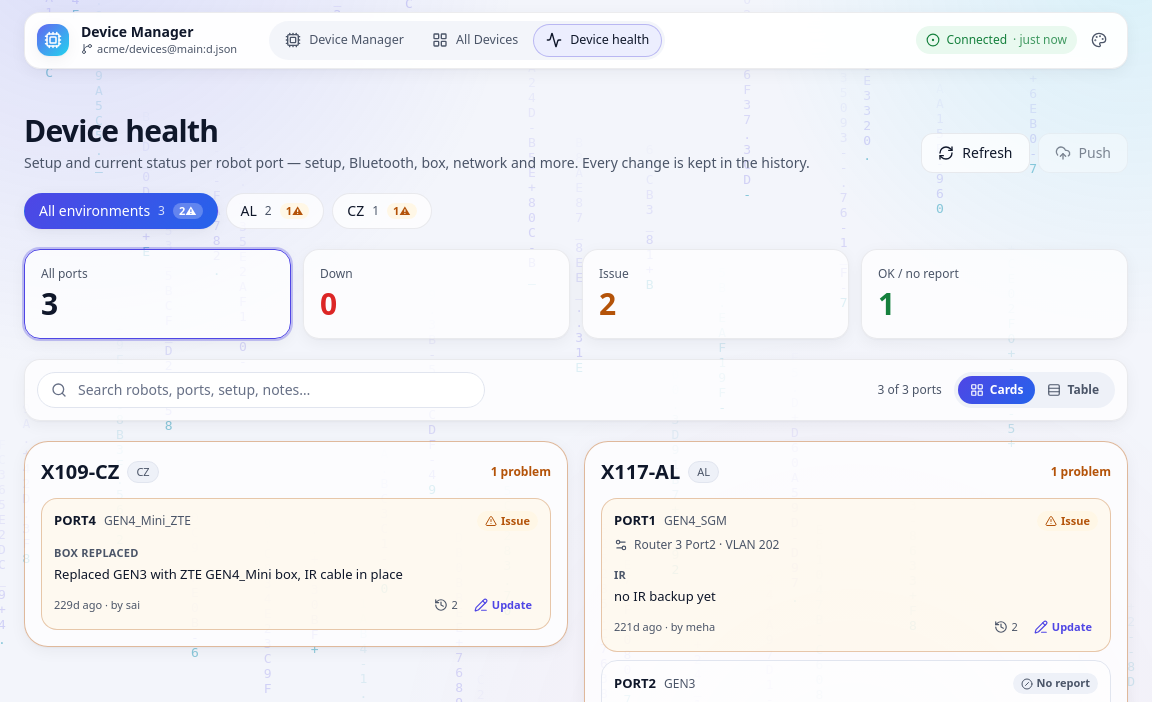
Test: Environment tab › filters by one environment at a time
Click the radio button labelled "CZ 1 1⚠".
click(382, 211)  # box [332,193,432,229]
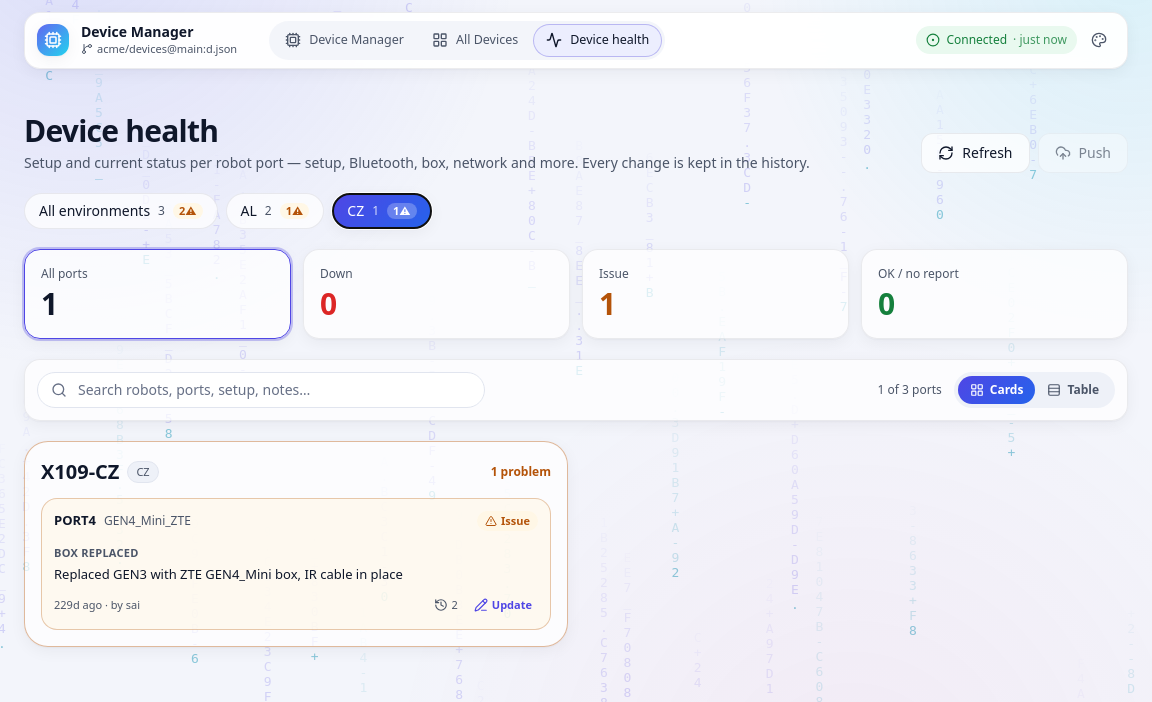
Check: the element "X109-CZ" is shown, box [24,441,568,647]
Check: the heading "X117-AL" is gone
